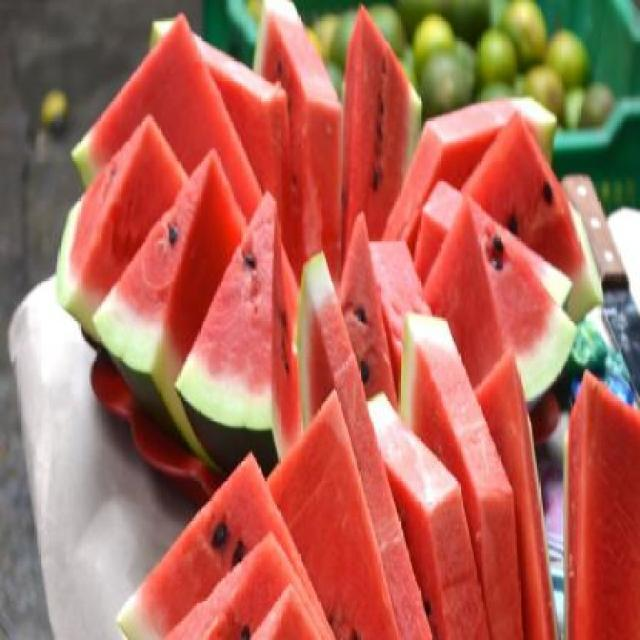Watermelon: (52, 0, 638, 638), (180, 200, 288, 442)
